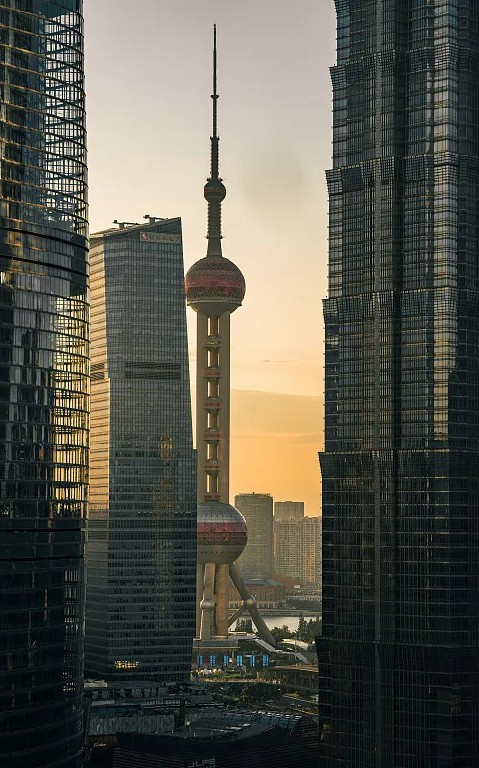Oriental: (185, 24, 271, 636)
